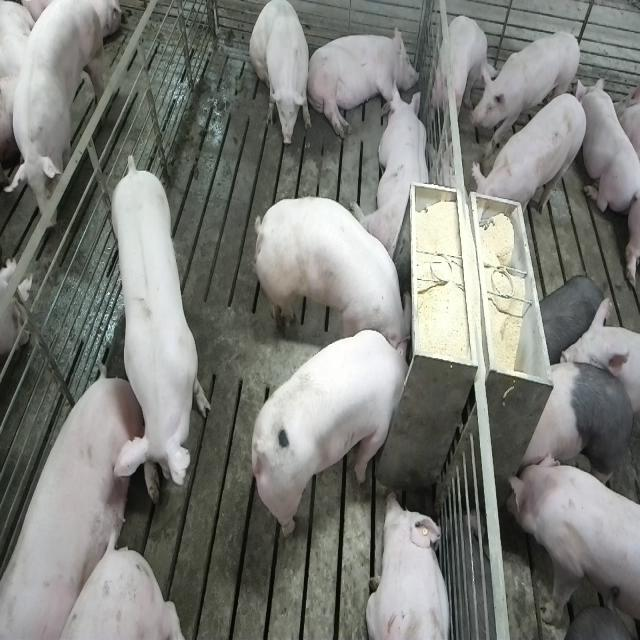Feeding: (254, 328, 419, 538), (249, 192, 410, 357)
Lateral_lying: (306, 22, 420, 141)
Sitting: (250, 0, 312, 148)
Standing: (108, 151, 211, 510), (0, 0, 115, 226), (504, 451, 638, 640), (514, 352, 638, 499), (472, 90, 589, 226), (471, 27, 583, 158), (532, 272, 609, 365), (436, 14, 491, 137)
Sternal_lying: (356, 80, 432, 254), (368, 490, 455, 640), (578, 73, 637, 216)
